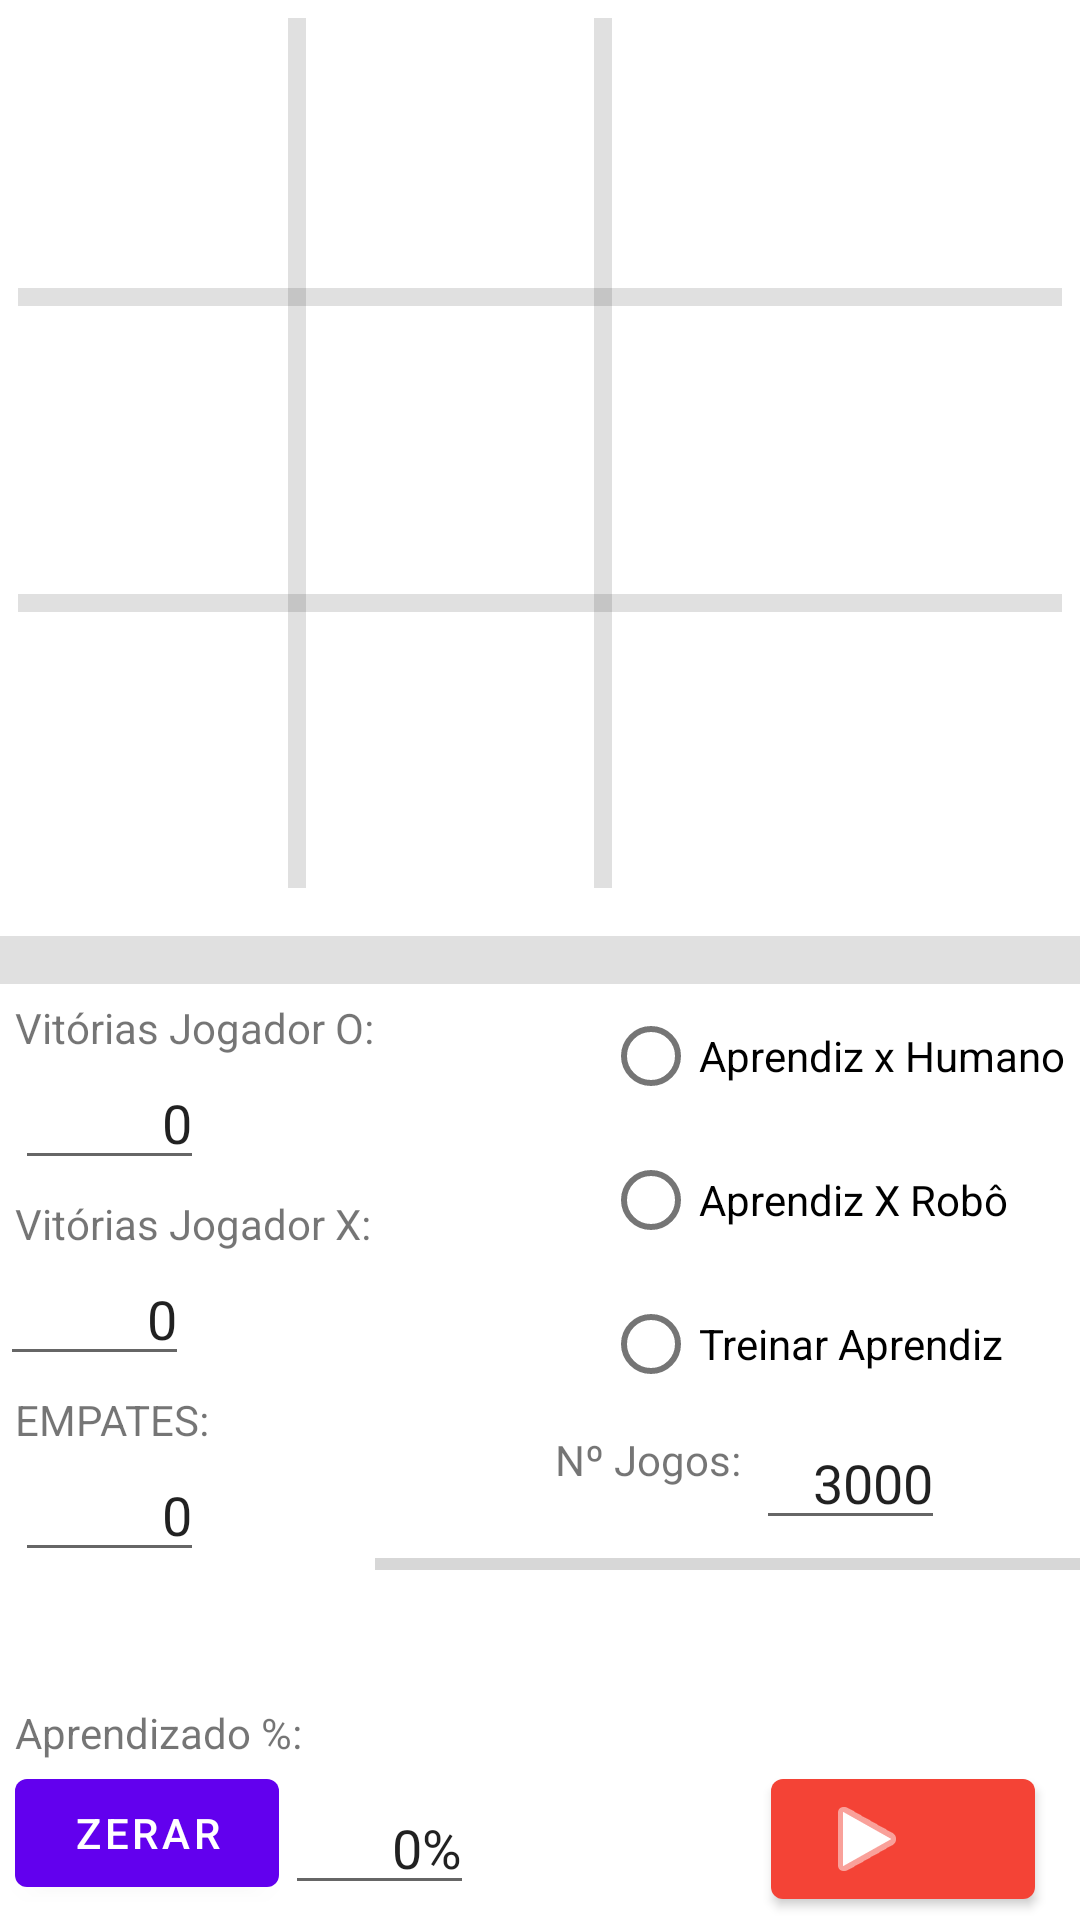

Icons on this 1080px x 1920px Android screen, each with the point to tap as point (x, y):
play: point (903, 1842)
